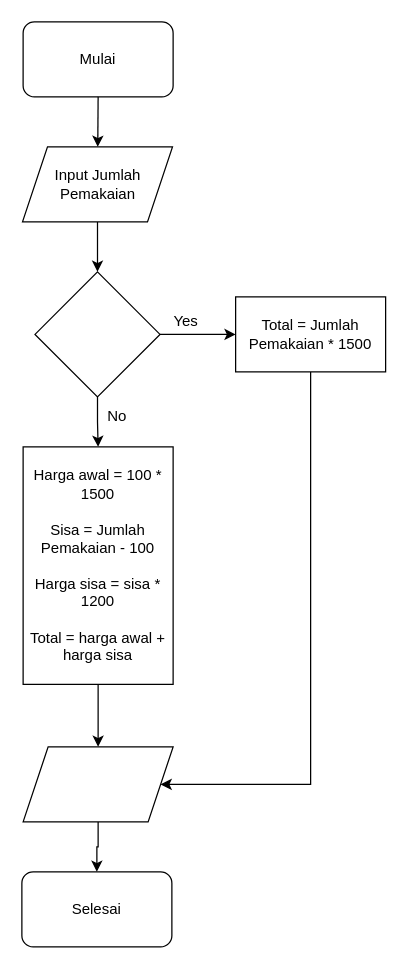
Some shapes in this 408 by 969 pixel diagram are drawn without their labels. Each missing label, with the centre of its shape:
"Jumlah Pemakaian <=100?" belongs at point 97,334.
"Output Total" belongs at point 97,784.
